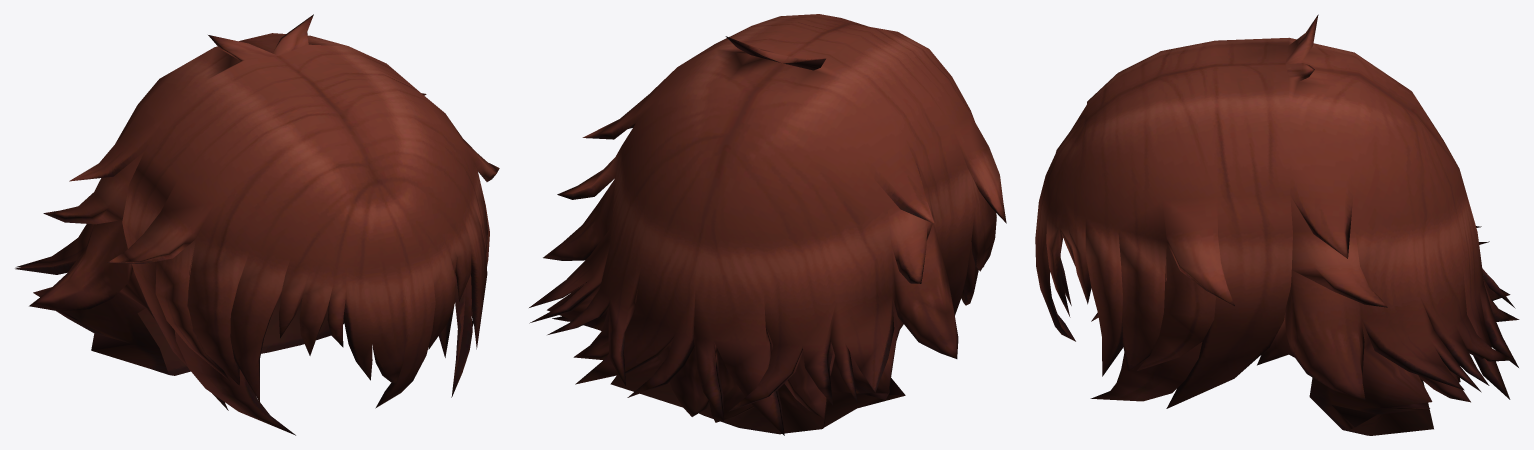
The model's file is Photo_SukubiHair.fbx.
The picture shows the model from 3 angles, left to right: view 1: azimuth 30°, elevation 25°; view 2: azimuth 150°, elevation 25°; view 3: azimuth 270°, elevation 25°; orthographic projection. The views are drawn at different scales.
Visible parts, largest first — view 1: Photo_SukubiHair; view 2: Photo_SukubiHair; view 3: Photo_SukubiHair.
Boxes of the visible parts, <box> form: Photo_SukubiHair: <box>15,14,499,435</box>; Photo_SukubiHair: <box>529,14,1006,435</box>; Photo_SukubiHair: <box>1035,14,1519,435</box>.
Bounding box in the file's own units: 28.05 × 23.13 × 27.45.
